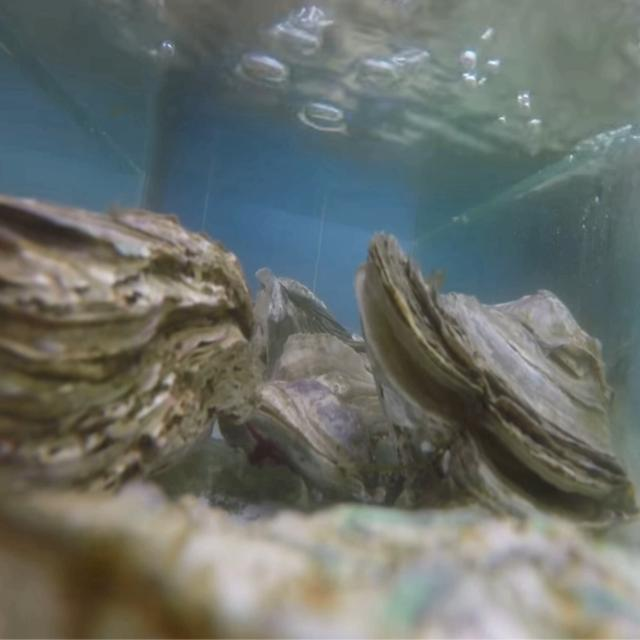Oyster-Closed: (0, 193, 255, 530), (247, 332, 413, 510)
Oyster-Indeterminate: (0, 483, 640, 640)
Oyster-Open: (355, 231, 640, 545)
